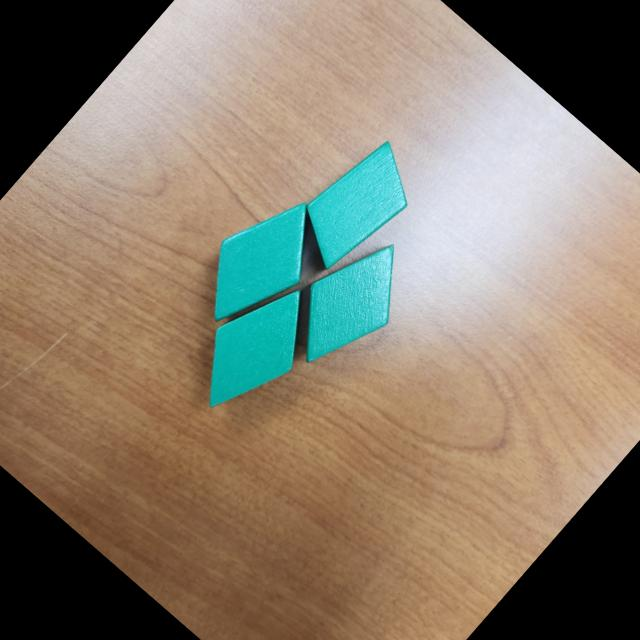green: (178, 178, 344, 350), (174, 264, 339, 434), (269, 220, 428, 386), (284, 127, 431, 280)
